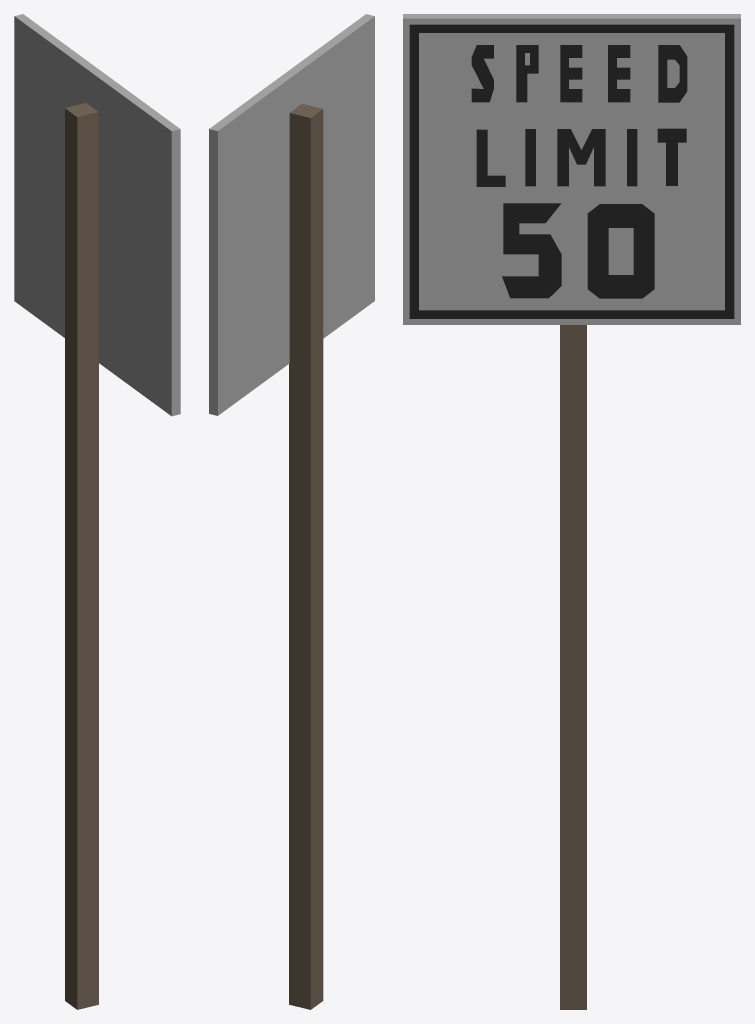
Rendered from SM_speed_limit_50.gltf.
3 renders of one model, left to right at view 1: azimuth 30°, elevation 25°; view 2: azimuth 150°, elevation 25°; view 3: azimuth 270°, elevation 25°, orthographic. The views are drawn at different scales.
Parts seen in each view (by area): view 1: SM_speed_limit_50; view 2: SM_speed_limit_50; view 3: SM_speed_limit_50.
Boxes of the visible parts, x1=… form: SM_speed_limit_50: x1=14, y1=14, x2=180, y2=1009; SM_speed_limit_50: x1=209, y1=14, x2=374, y2=1009; SM_speed_limit_50: x1=403, y1=14, x2=740, y2=1009.
Bounding box in the file's own units: 0.0971 × 2.73 × 0.841.
1 material, 1 textured.
